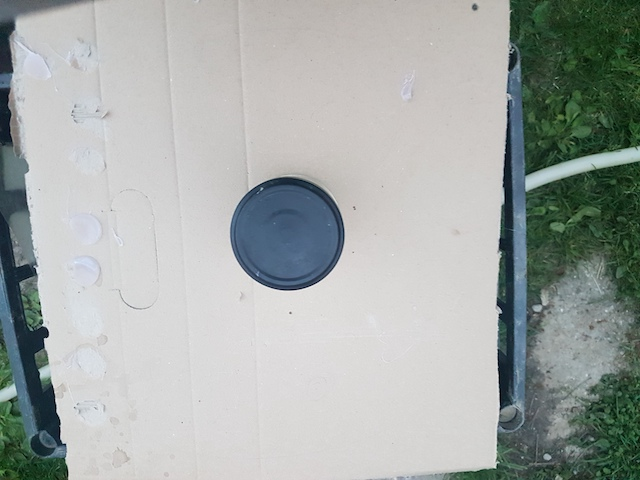recipient: (232, 176, 350, 295)
